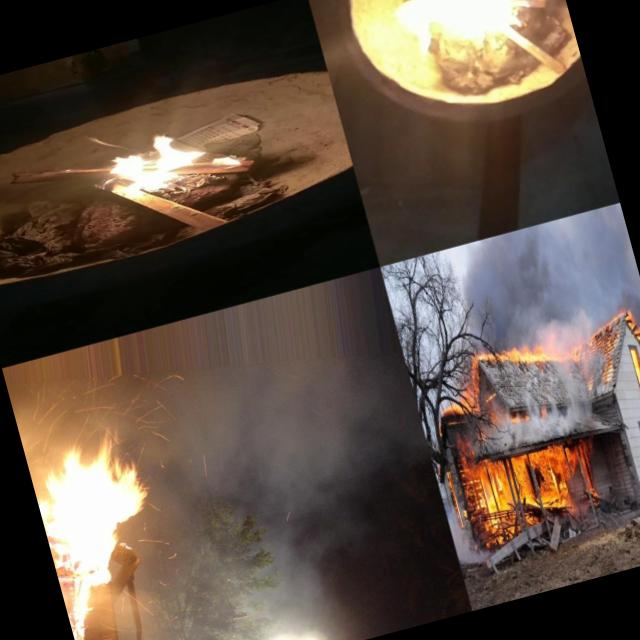fire: (23, 420, 164, 608), (466, 433, 610, 548), (90, 111, 250, 206), (366, 0, 550, 82), (466, 328, 578, 383), (65, 599, 123, 640), (627, 340, 640, 404), (624, 306, 640, 355)
smoke: (118, 344, 388, 582), (445, 202, 640, 354), (98, 540, 349, 640), (343, 339, 435, 487), (8, 367, 118, 443), (519, 363, 600, 439), (434, 462, 486, 568), (469, 416, 535, 460)
